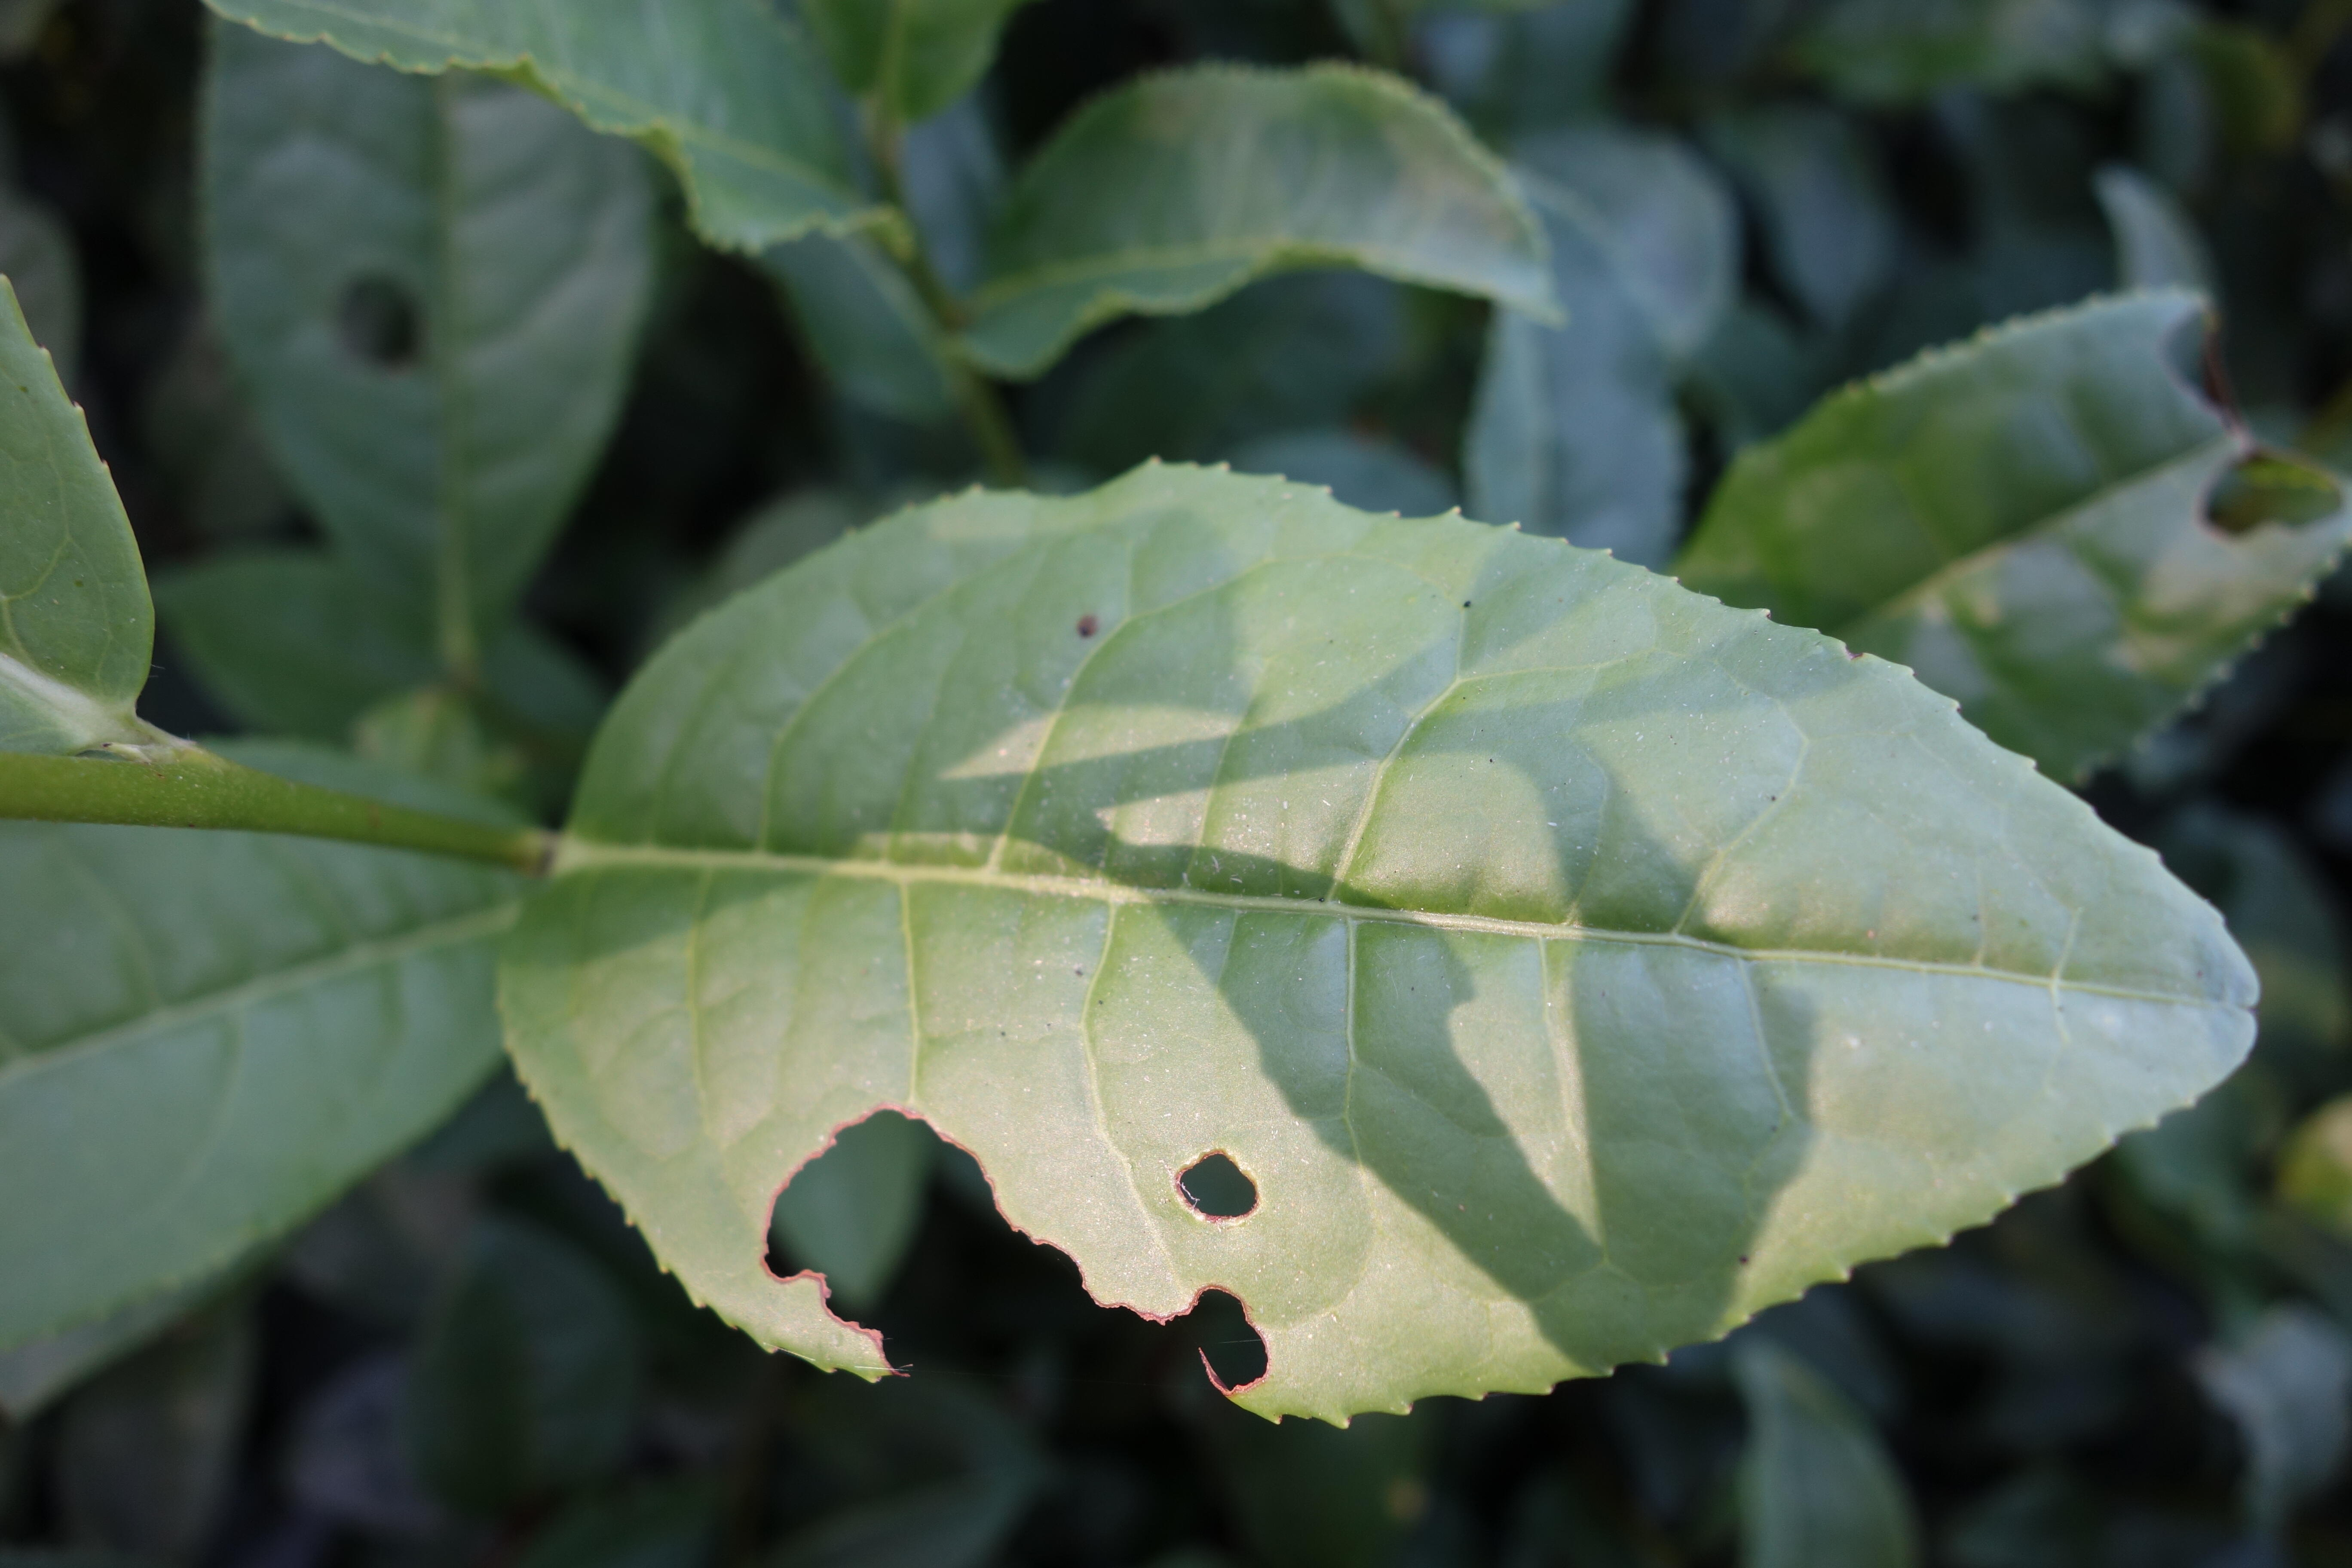chihuo_high: (500, 457, 2266, 1433)
chihuo_low: (189, 26, 663, 670)
